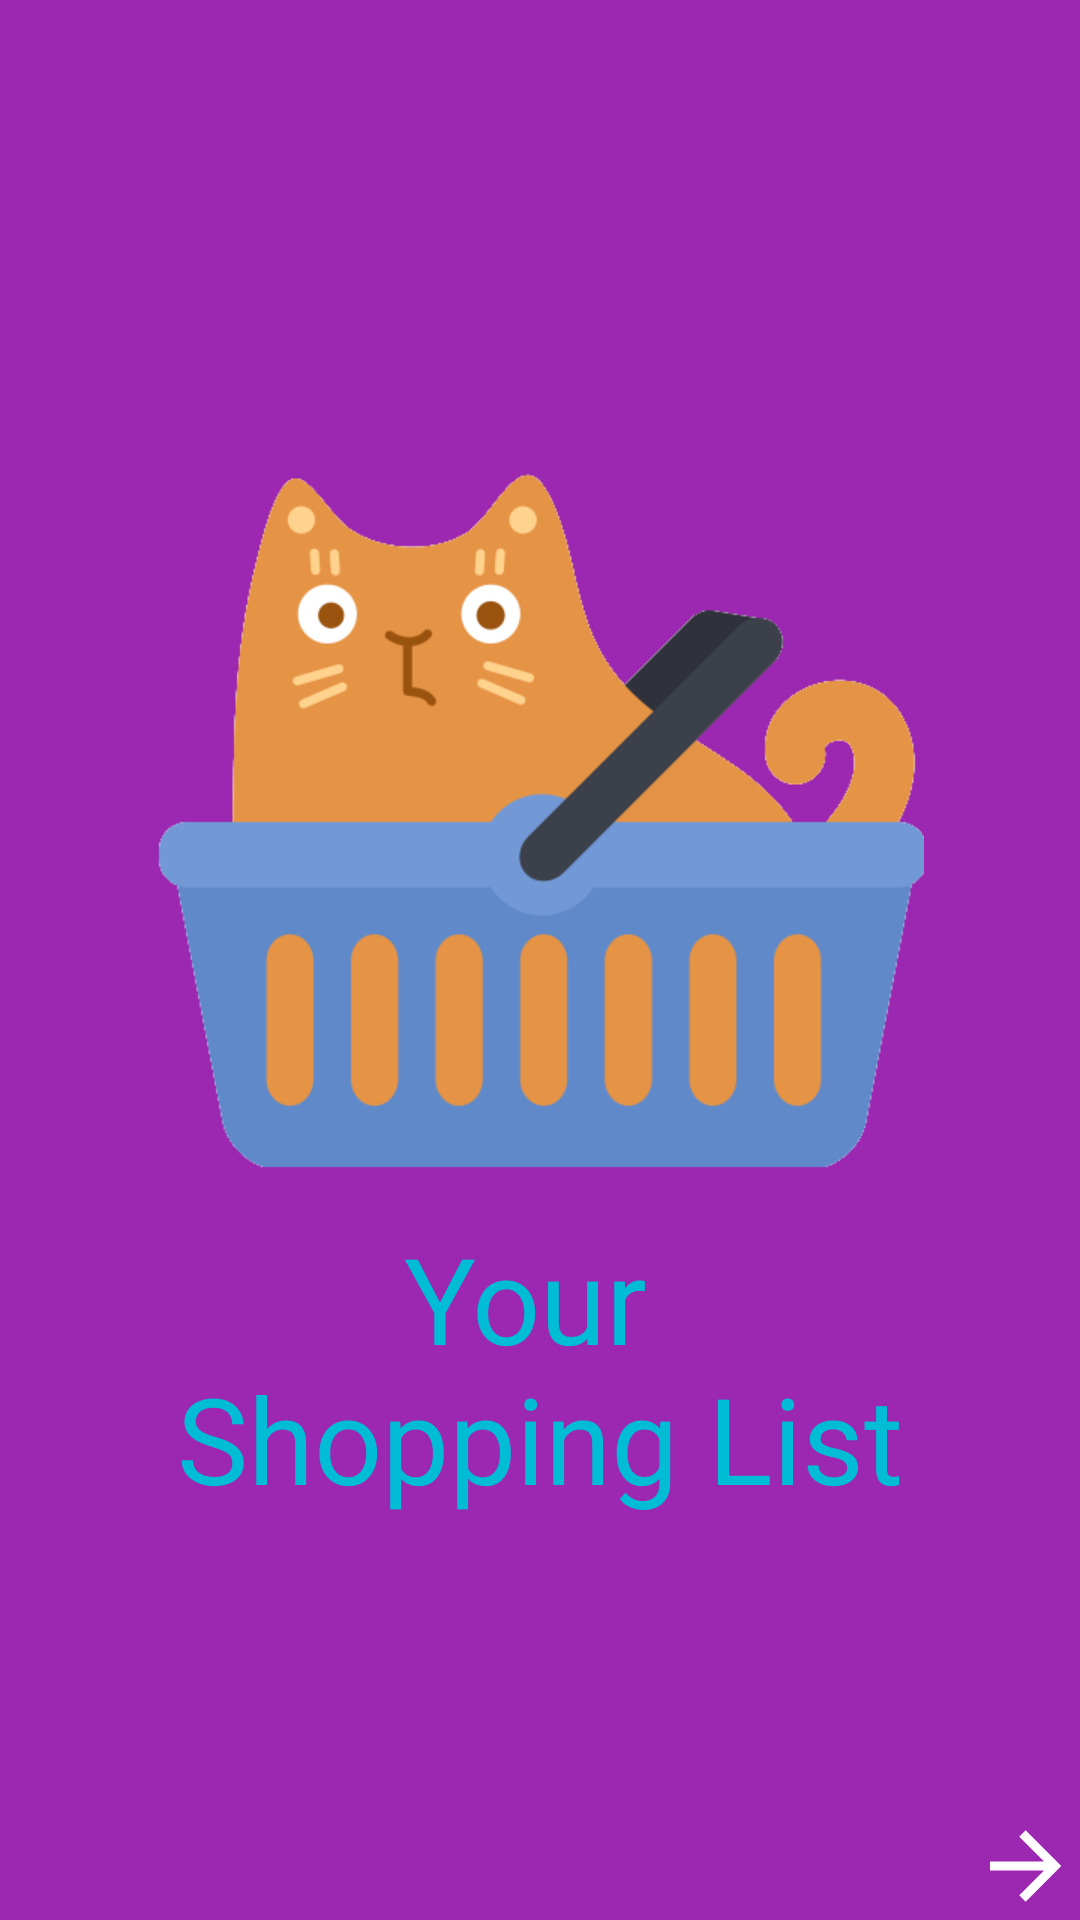

Named icons in this screenshot (1080x1920) and their bounding boxes, Rect(x1, y1, x2, y2):
next: Rect(990, 1830, 1061, 1902)
